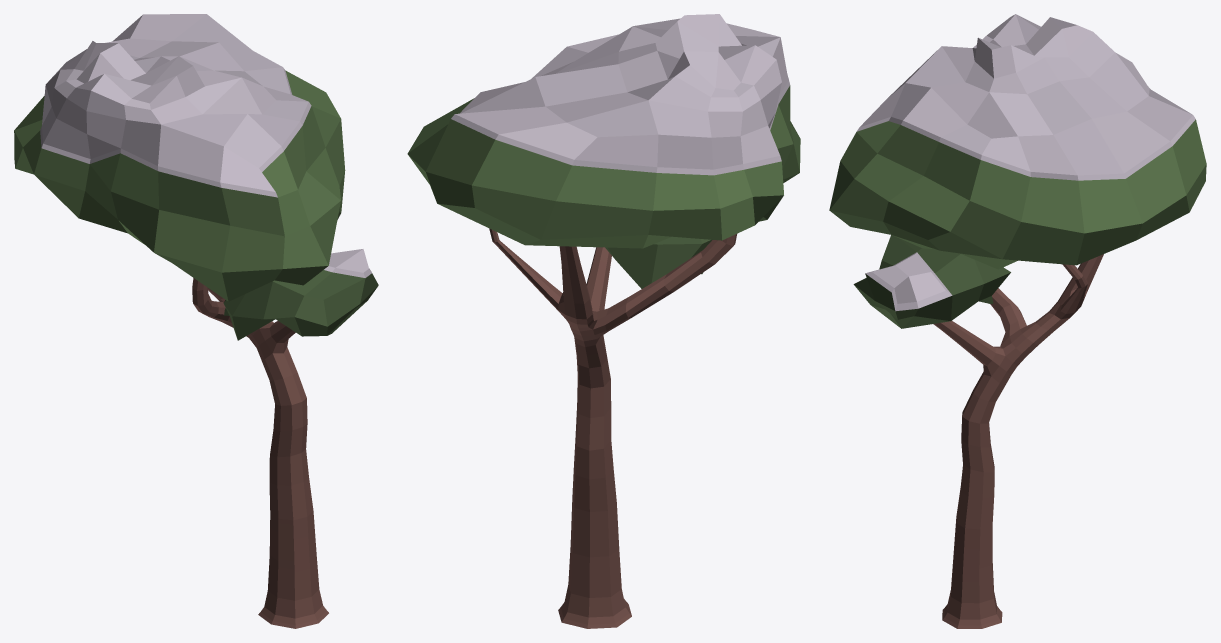
The model's file is commontree_snow_4.glb.
3 renders of one model, left to right at view 1: azimuth 30°, elevation 25°; view 2: azimuth 150°, elevation 25°; view 3: azimuth 270°, elevation 25°, orthographic. The views are drawn at different scales.
Parts seen in each view (by area): view 1: CommonTree_Snow_4; view 2: CommonTree_Snow_4; view 3: CommonTree_Snow_4.
Part boxes in pixels (x1,y1,x2,y2): CommonTree_Snow_4: (14,14,378,628); CommonTree_Snow_4: (407,14,800,628); CommonTree_Snow_4: (829,14,1206,628).
Bounding box in the file's own units: 1.58 × 2.8 × 1.8.
